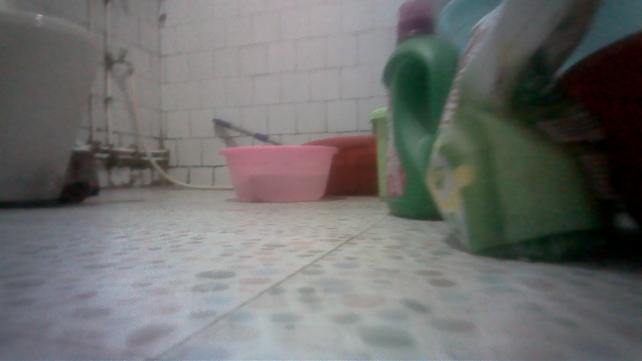toilet: (1, 4, 102, 207)
